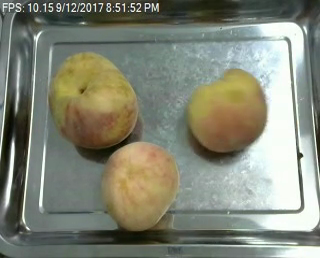Peach: (48, 49, 139, 151), (101, 141, 179, 231), (187, 69, 267, 153)
